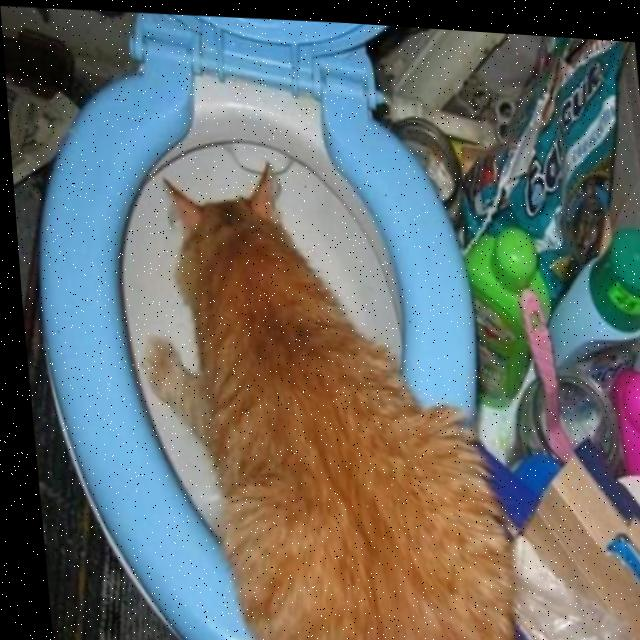Cats: (131, 131, 522, 640)
